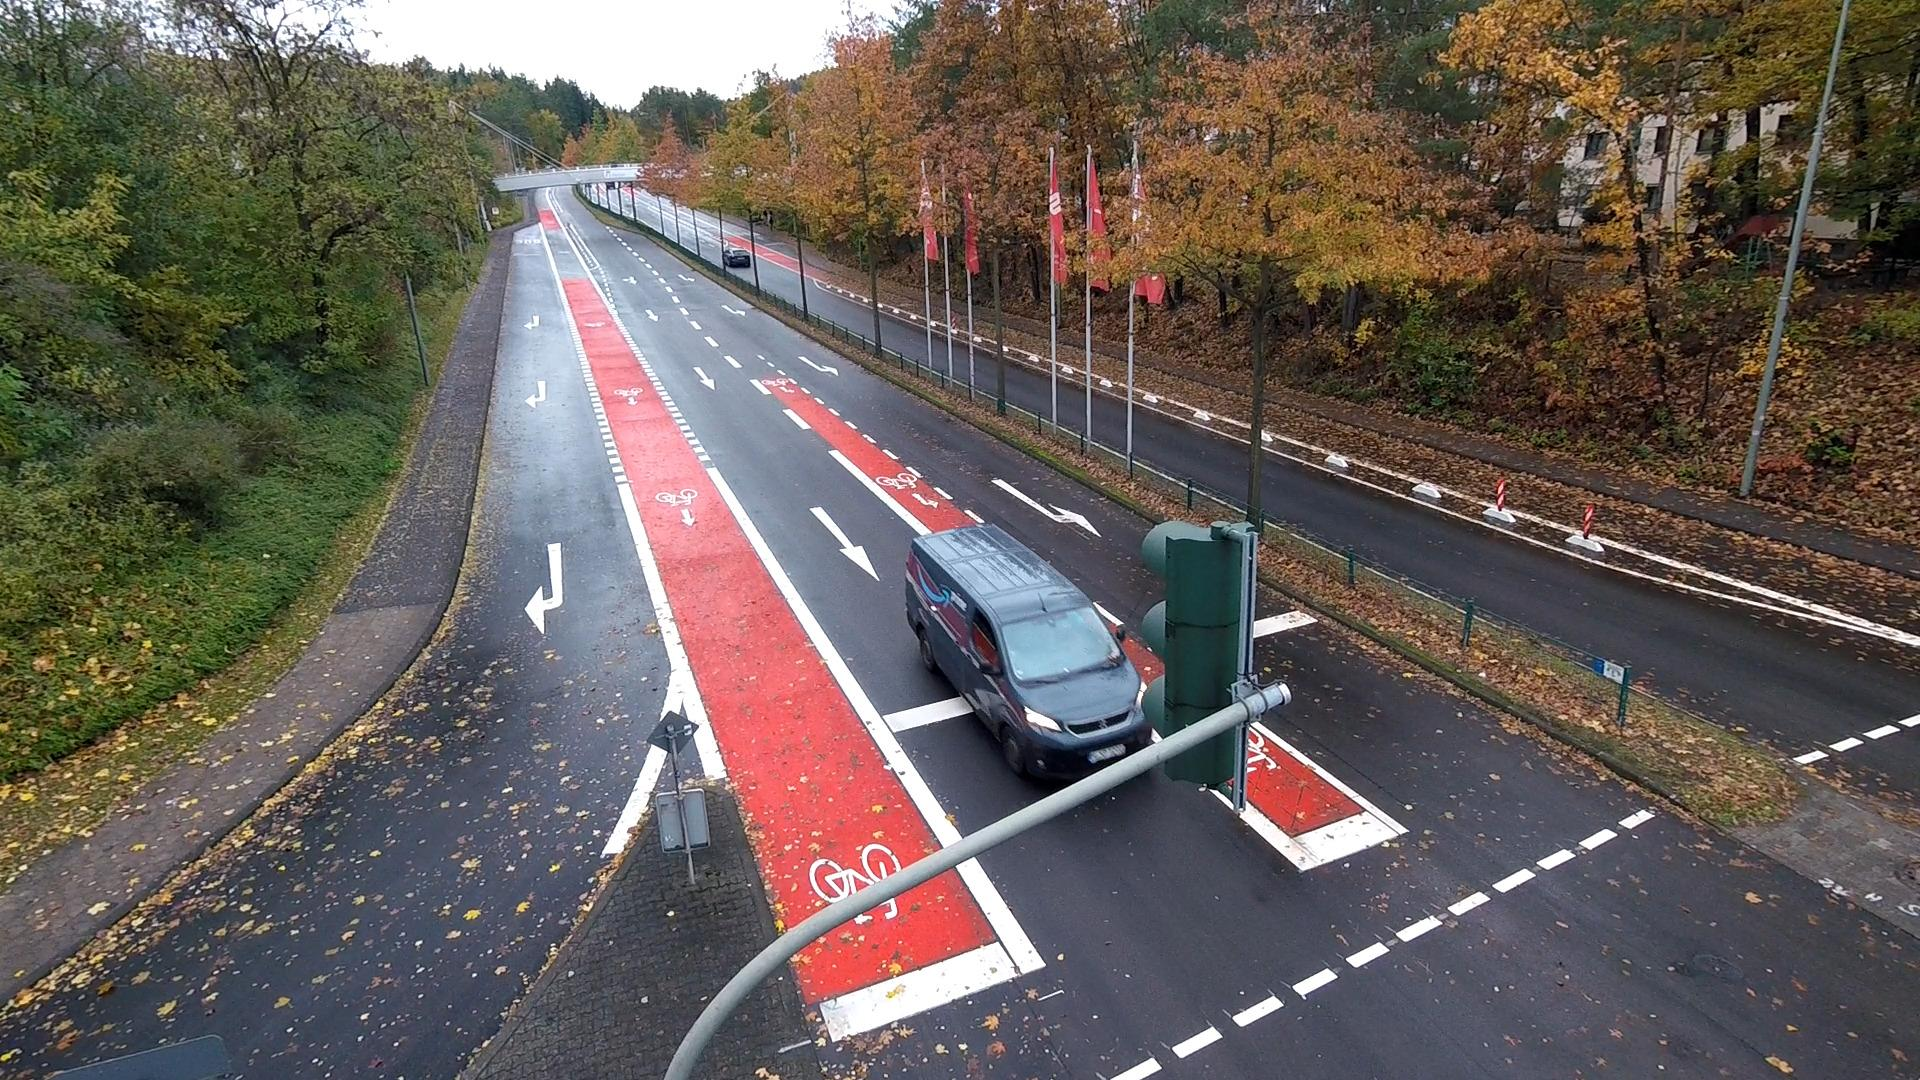bicycle-lane: (534, 190, 961, 940), (1261, 400, 1920, 637), (783, 858, 1047, 1051), (727, 351, 976, 539), (1245, 719, 1408, 872), (1130, 363, 1253, 425), (803, 261, 870, 299), (1124, 640, 1166, 688), (1001, 326, 1052, 360), (622, 183, 675, 216), (877, 287, 926, 319), (756, 243, 803, 274), (1089, 352, 1129, 386), (1213, 778, 1240, 816), (1056, 343, 1087, 373), (972, 316, 997, 343), (1098, 607, 1120, 637), (725, 231, 750, 255), (695, 218, 719, 239), (949, 310, 969, 332), (930, 305, 947, 324), (679, 211, 696, 227)
car: (902, 525, 1155, 787), (724, 247, 750, 265), (604, 181, 617, 190)
car-lane: (0, 224, 683, 1080), (814, 575, 1920, 1080), (545, 182, 1166, 839), (1253, 447, 1920, 814), (1133, 400, 1251, 513), (804, 276, 878, 347), (1005, 355, 1052, 423), (878, 310, 928, 368), (756, 253, 807, 309), (1089, 388, 1126, 458), (1058, 375, 1085, 436), (975, 345, 1000, 400), (753, 232, 800, 258), (695, 229, 724, 269), (951, 339, 973, 388), (634, 196, 662, 235), (931, 327, 949, 376), (679, 219, 700, 252), (727, 256, 754, 281), (579, 185, 608, 207), (723, 220, 753, 241), (694, 210, 720, 228), (663, 214, 676, 244), (621, 189, 634, 219), (637, 187, 657, 200), (675, 204, 694, 216), (611, 191, 621, 211), (659, 198, 675, 210)
